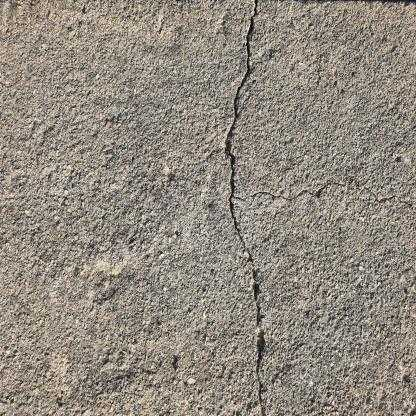crack: (224, 0, 265, 416)
